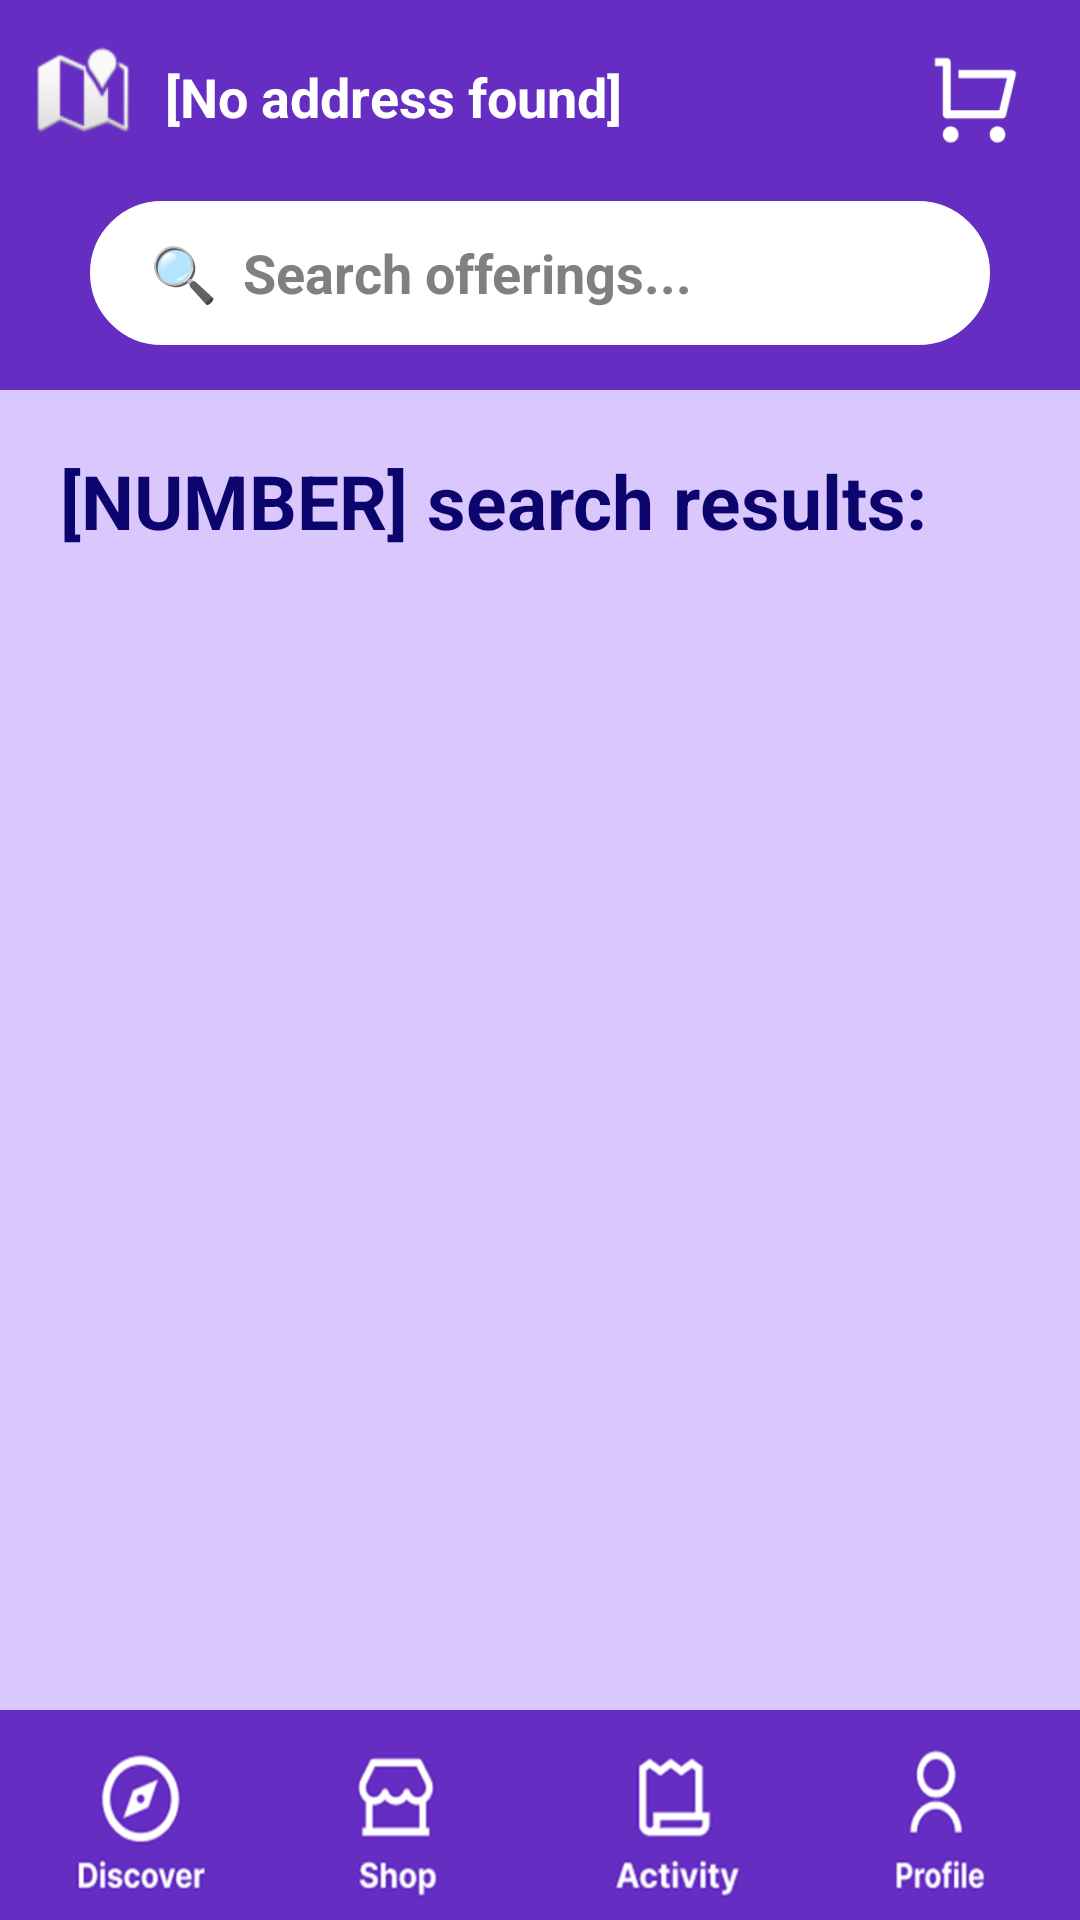

Screen size 1080px×1920px. Icon name, then its center in pixels as (x=x, y=y):
Cart Button: (x=975, y=100)
map: (x=83, y=90)
